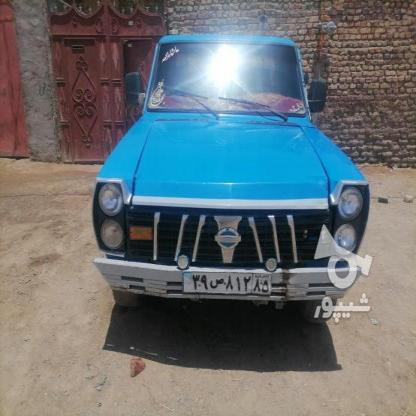licence: (181, 270, 271, 294)
